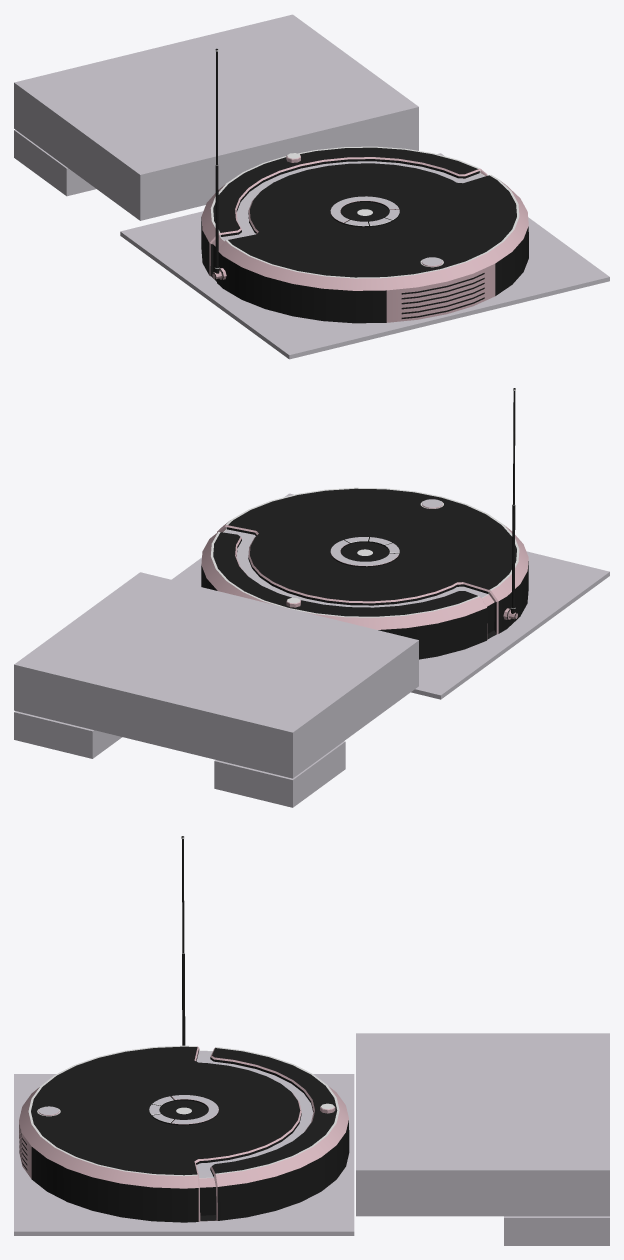
Rendered from Robot Vacuum.fbx.
3 renders of one model, top to bottom at view 1: azimuth 30°, elevation 25°; view 2: azimuth 150°, elevation 25°; view 3: azimuth 270°, elevation 25°, orthographic.
Visible parts, largest first — view 1: MainTrigger, Cleaner, TriggerFloor, TriggerBottomLeft; view 2: MainTrigger, Cleaner, TriggerFloor, TriggerBottomLeft, TriggerBottomRight; view 3: Cleaner, MainTrigger, TriggerFloor, TriggerBottomRight.
Boxes of the visible parts, bbox=[...] form: MainTrigger: bbox=[14, 14, 418, 220]; Cleaner: bbox=[201, 48, 528, 323]; TriggerFloor: bbox=[120, 153, 609, 359]; TriggerBottomLeft: bbox=[14, 129, 95, 196]; MainTrigger: bbox=[14, 572, 418, 778]; Cleaner: bbox=[201, 388, 528, 659]; TriggerFloor: bbox=[171, 493, 609, 699]; TriggerBottomLeft: bbox=[214, 741, 345, 807]; TriggerBottomRight: bbox=[14, 711, 122, 758]; Cleaner: bbox=[19, 836, 349, 1222]; MainTrigger: bbox=[356, 1033, 609, 1216]; TriggerFloor: bbox=[14, 1074, 354, 1235]; TriggerBottomRight: bbox=[504, 1216, 609, 1245].
Bounding box in the file's own units: 52.54 × 41.69 × 84.07.
